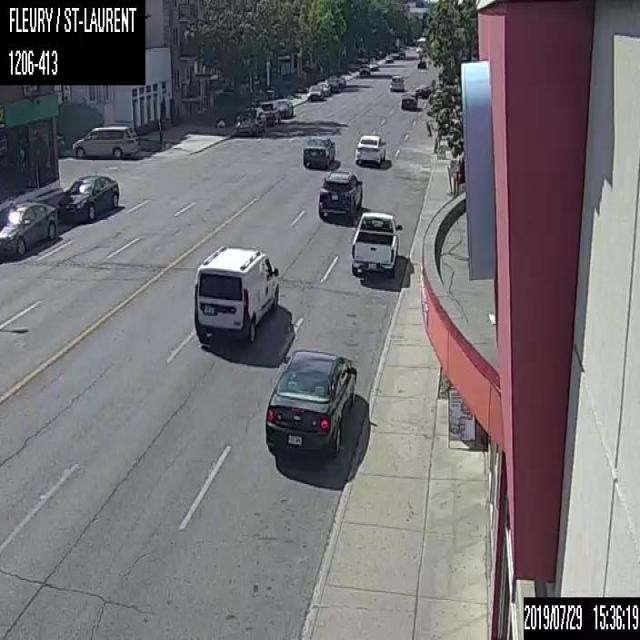vehicle: (264, 348, 356, 457), (192, 244, 280, 344), (350, 209, 402, 275), (0, 200, 57, 256), (56, 174, 118, 223), (314, 167, 364, 220), (71, 121, 139, 159), (302, 134, 335, 166), (353, 132, 385, 165), (233, 105, 265, 135), (256, 99, 280, 124), (275, 97, 293, 117), (384, 49, 406, 63), (400, 92, 417, 109), (306, 84, 323, 100), (389, 74, 404, 90), (55, 133, 65, 154), (316, 80, 330, 95), (415, 36, 425, 52), (358, 62, 369, 74), (416, 59, 426, 67), (369, 61, 377, 69)
